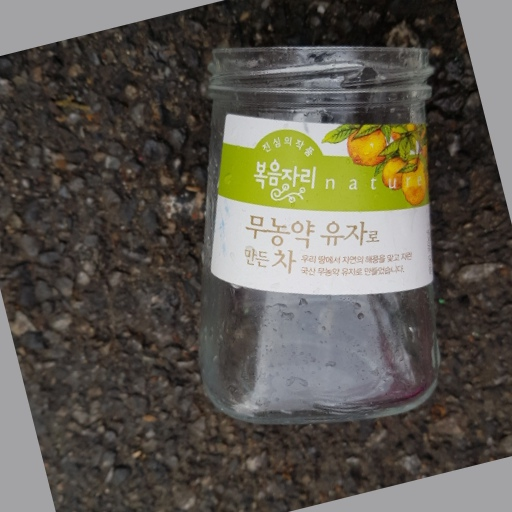Glass_5: (186, 41, 440, 422)
